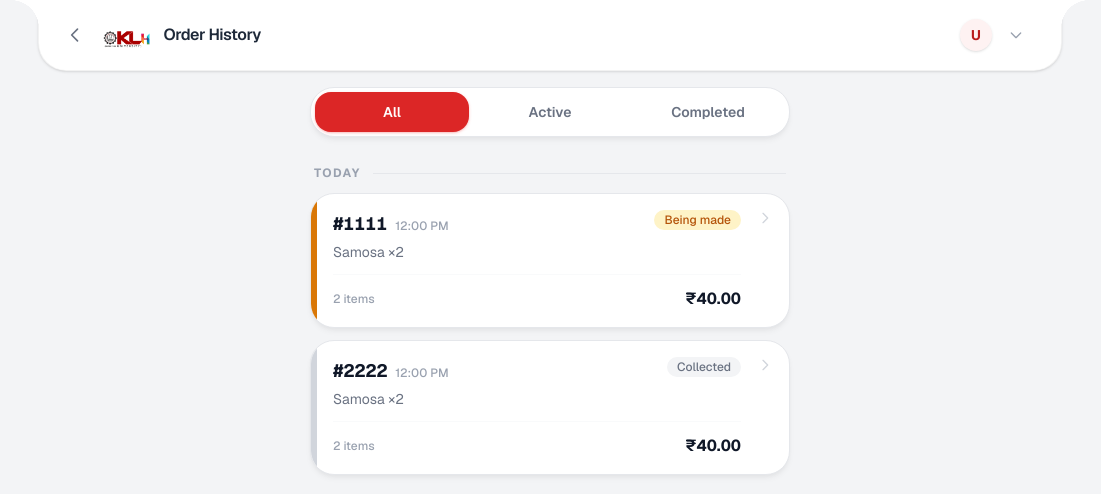
Test: filters to active orders, and back to all
Expected: the text "#1111" is shown, [333, 210, 387, 238]
Expected: the text "#2222" is shown, [333, 357, 387, 385]
Click the tab "Active" at [550, 112], box [473, 92, 627, 132]
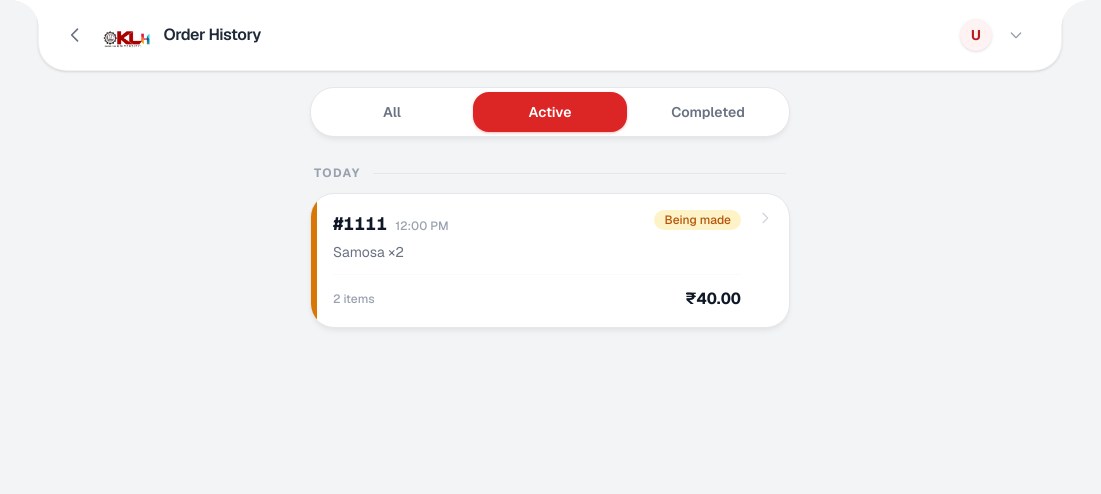
Expected: the text "#1111" is shown, [333, 210, 387, 238]
Expected: the link "2222" is gone
Click the tab "Completed" at [708, 112], box [631, 92, 785, 132]
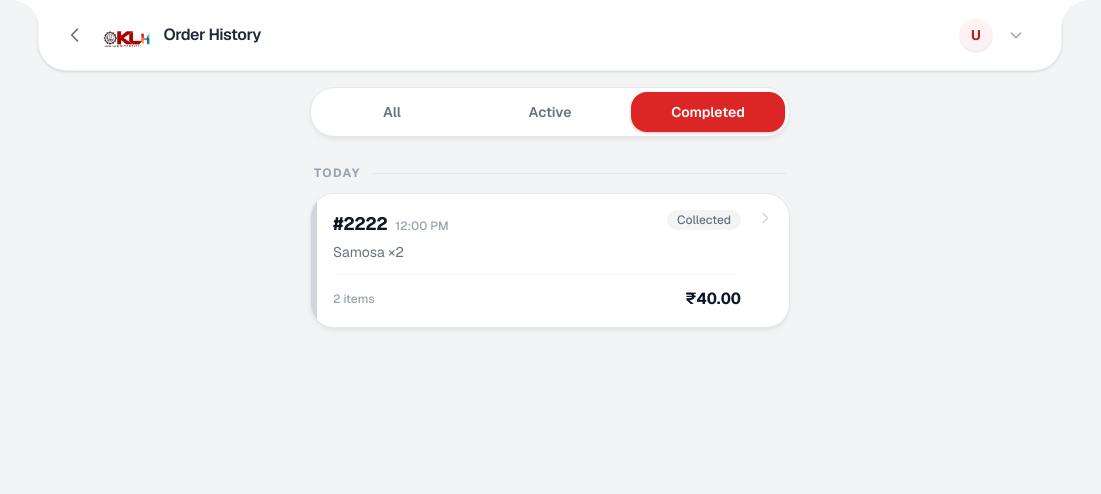
Expected: the link "1111" is gone
Expected: the text "#2222" is shown, [333, 210, 387, 238]
Click the tab "All" at [392, 112], box [315, 92, 469, 132]
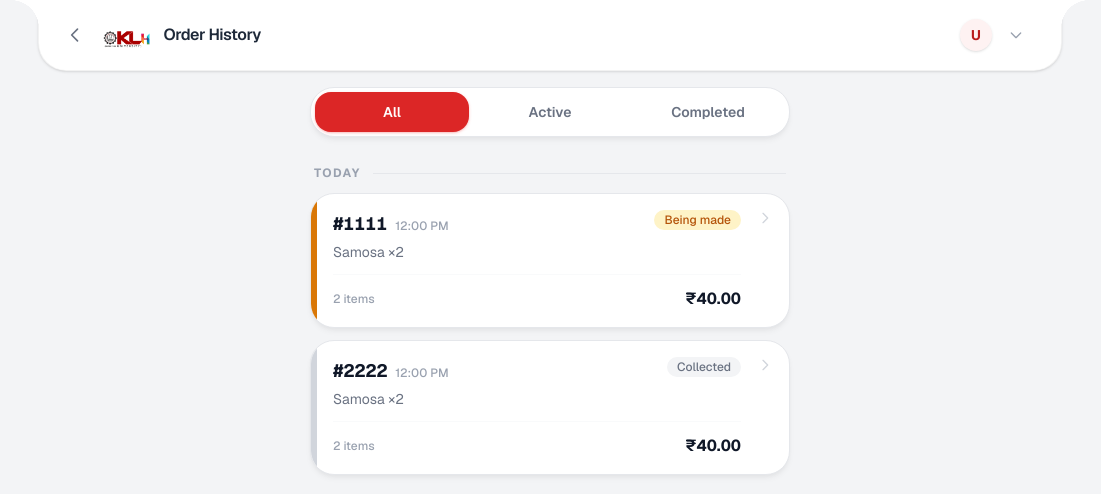
Expected: the text "#2222" is shown, [333, 357, 387, 385]
Expected: the text "#1111" is shown, [333, 210, 387, 238]
